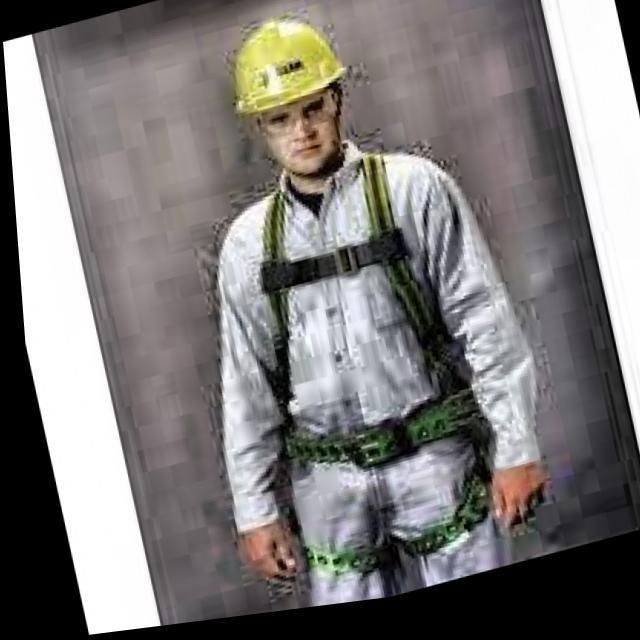Arnes_seguridad: (249, 152, 502, 571)
